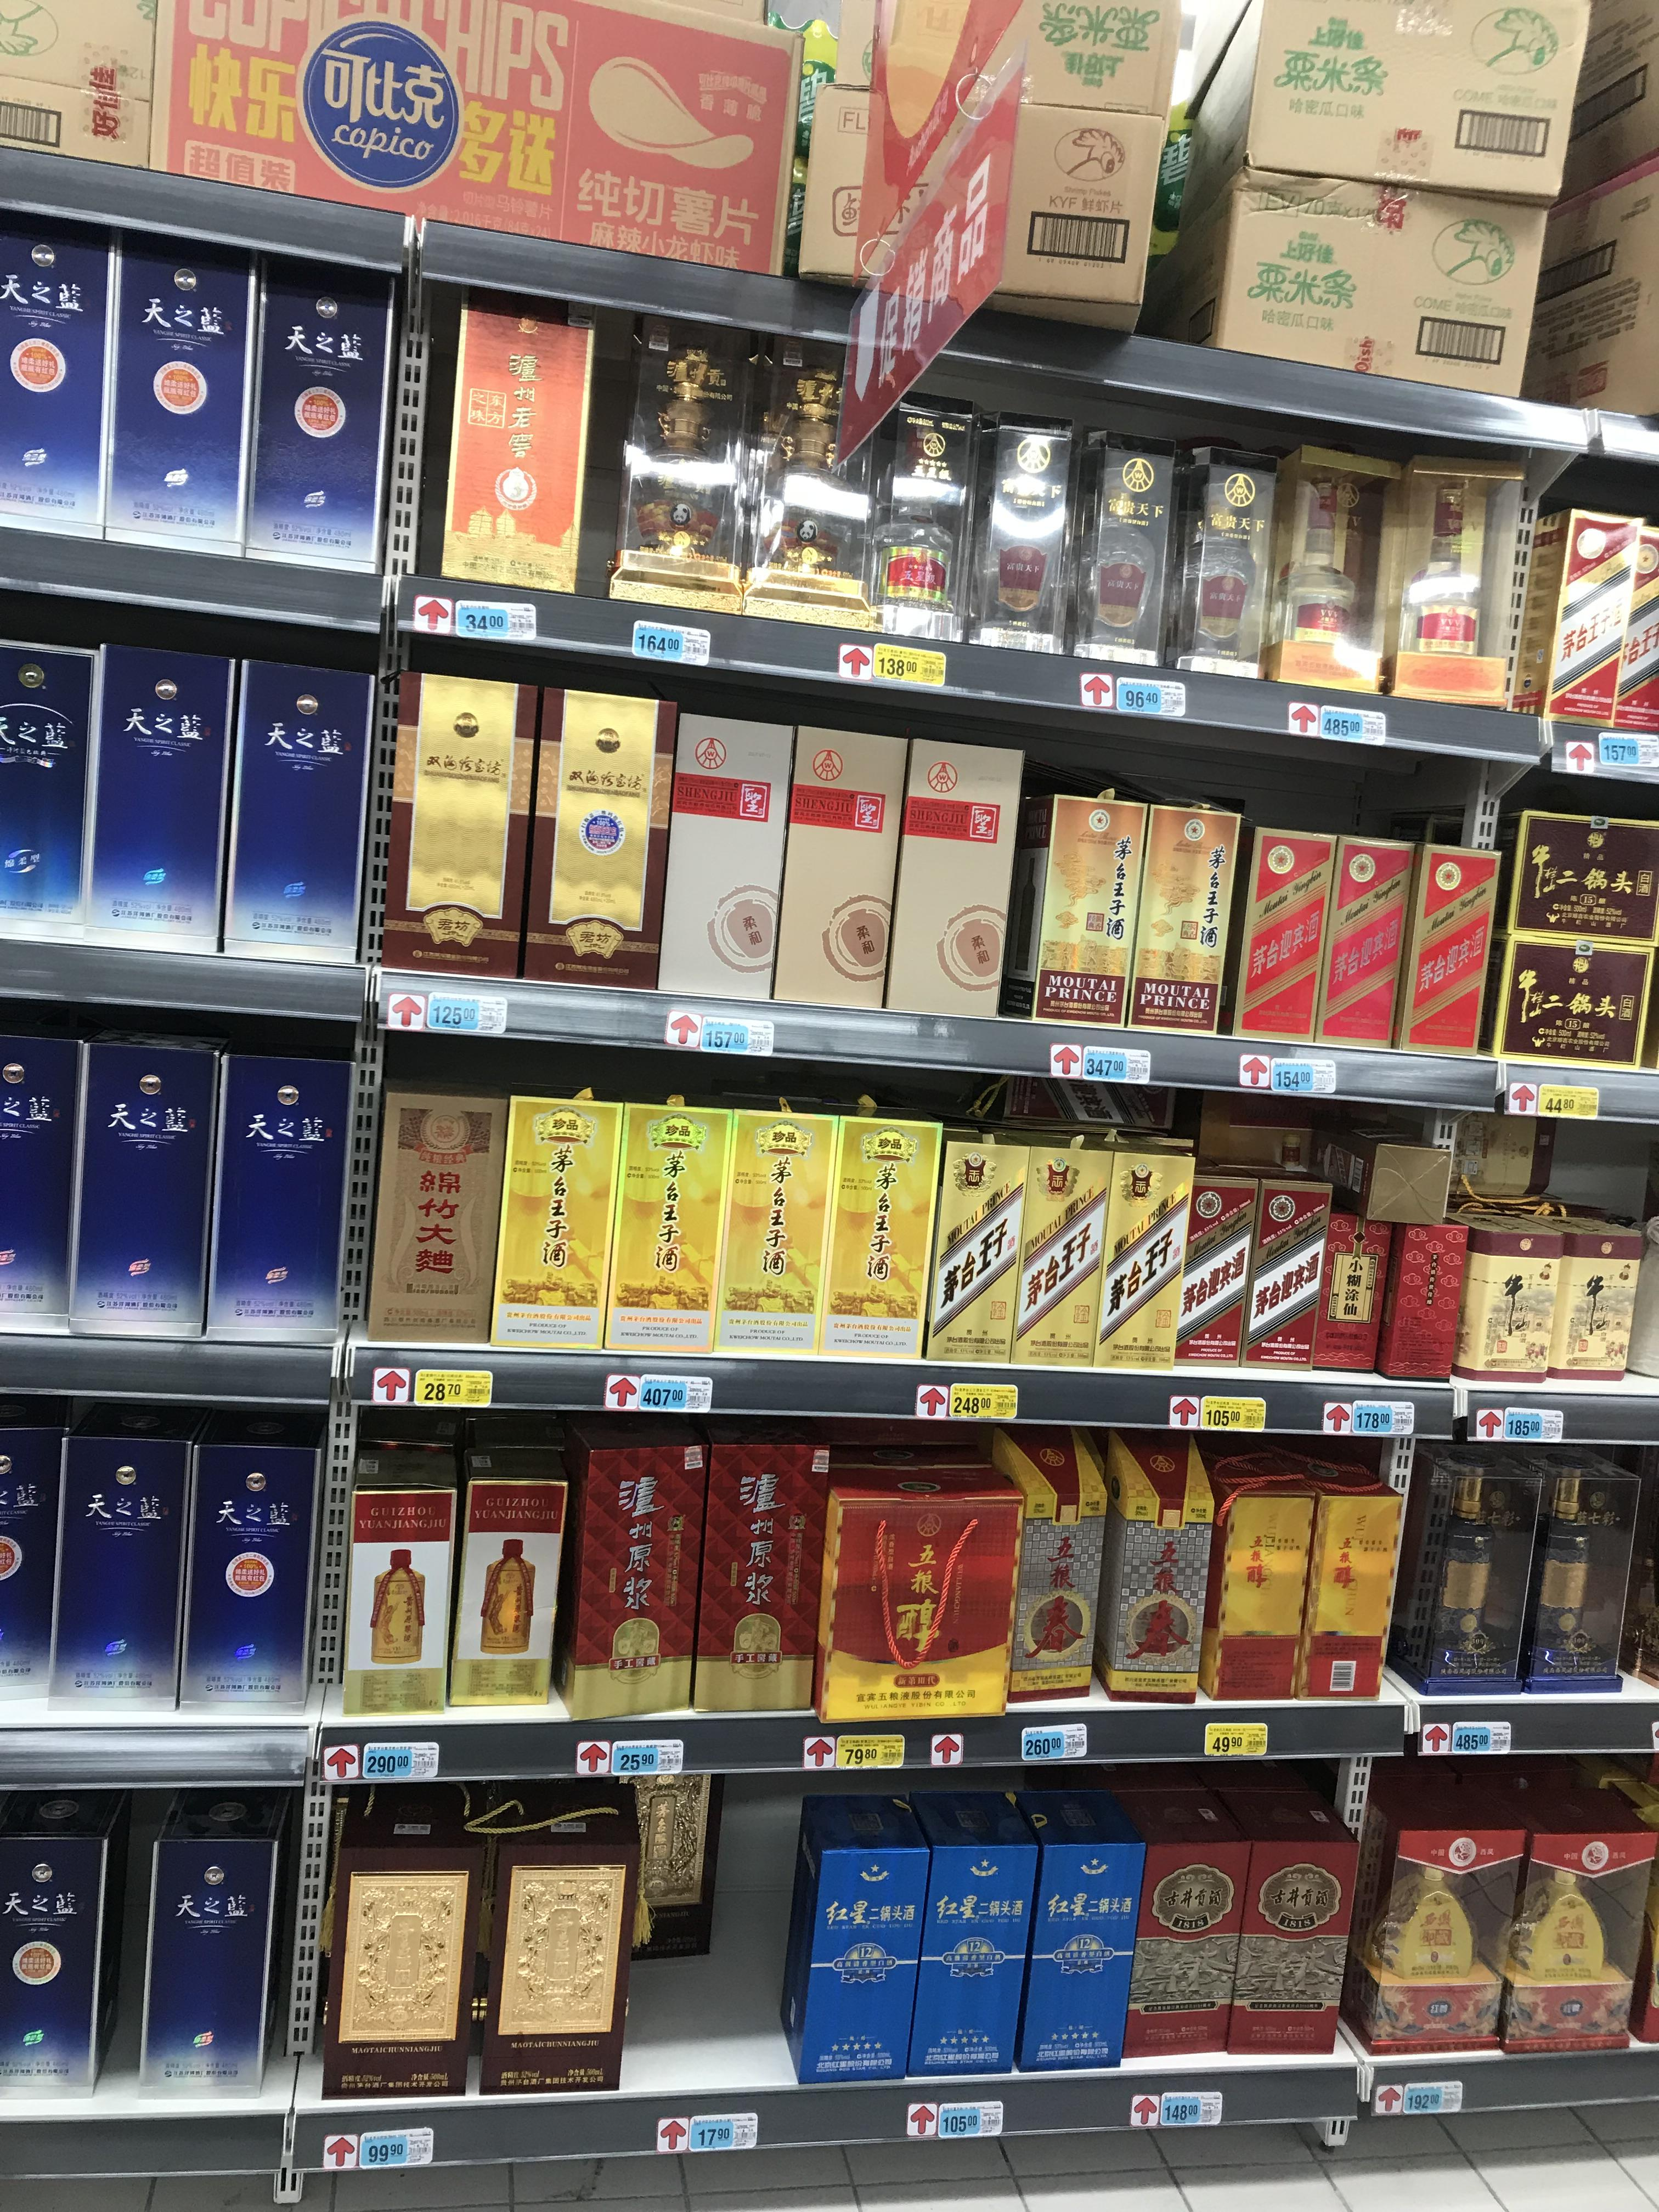bag: (821, 1470, 1039, 1719), (242, 253, 401, 577), (221, 658, 383, 958), (178, 1406, 324, 1716), (901, 1792, 1039, 2085), (1502, 1785, 1642, 2059), (796, 1784, 917, 2088), (1087, 1426, 1216, 1709), (986, 1421, 1110, 1703), (441, 1432, 566, 1709), (1112, 1803, 1243, 2060), (1021, 1811, 1147, 2078), (1227, 1782, 1351, 2050), (1523, 1454, 1643, 1700), (0, 636, 92, 925), (1419, 1461, 1521, 1703), (1180, 444, 1272, 683)
bottle: (131, 1784, 293, 2094), (66, 1028, 225, 1329), (0, 1784, 127, 2099), (1077, 404, 1175, 665), (871, 394, 972, 644)
box: (166, 0, 786, 270), (354, 674, 530, 991), (420, 296, 596, 592), (552, 1413, 702, 1714), (115, 225, 247, 557), (608, 310, 756, 606), (884, 730, 1032, 1024), (758, 714, 903, 1014), (533, 686, 673, 991), (213, 1036, 345, 1348), (474, 1834, 631, 2092), (92, 641, 221, 954), (690, 1428, 831, 1710), (52, 1400, 183, 1703), (659, 704, 786, 1005), (1363, 1784, 1500, 2057), (326, 1839, 472, 2094), (756, 327, 877, 634), (5, 206, 112, 550), (357, 1094, 502, 1336), (1019, 780, 1150, 1029), (802, 1111, 939, 1346), (1201, 1460, 1333, 1702), (338, 1444, 457, 1710), (1274, 1458, 1401, 1705), (702, 1106, 835, 1343), (488, 1097, 617, 1339), (992, 1073, 1101, 1353), (1114, 799, 1246, 1031), (601, 1101, 725, 1346), (1269, 448, 1391, 693), (918, 1111, 1035, 1352), (0, 1021, 80, 1341), (1382, 846, 1495, 1059), (1495, 805, 1659, 949), (1087, 1139, 1194, 1359), (1319, 833, 1420, 1050), (1236, 829, 1338, 1040), (0, 1395, 68, 1702), (1492, 935, 1647, 1069), (1168, 1179, 1276, 1364), (1237, 1176, 1331, 1367), (1323, 1211, 1389, 1385)
jar: (976, 415, 1077, 660), (1446, 1214, 1561, 1379), (1523, 1223, 1643, 1378), (1366, 1214, 1467, 1383)
others: (805, 89, 1195, 338), (1190, 169, 1567, 401), (1218, 5, 1595, 200), (1492, 160, 1659, 413), (1385, 458, 1511, 693), (1547, 488, 1647, 730)
